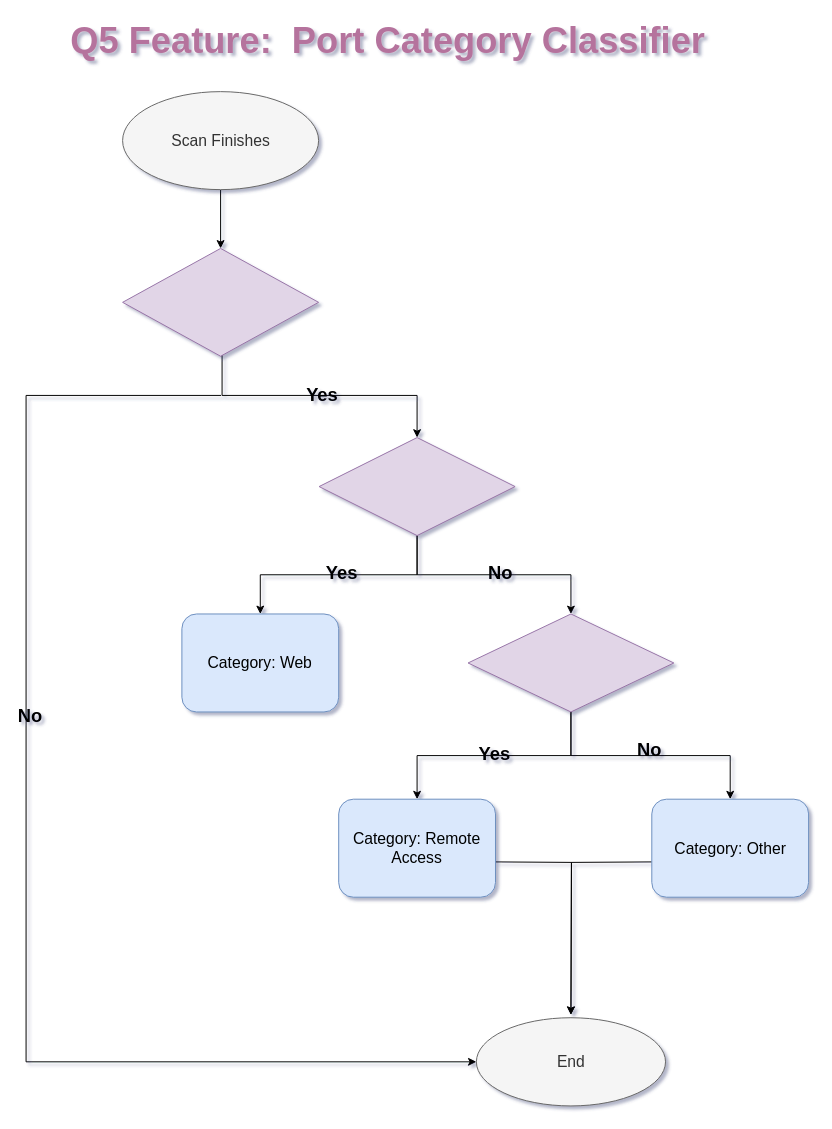
Image size: 832x1129. Some labels were removed from this diagram. The shapes that lost their labels are listed below. From the top down, each one's box as (x1, y1, x2, y2) in pixels, then its label:
(122, 247, 319, 356): Is port open?
(318, 437, 515, 536): Is port 80 or 443?
(467, 613, 674, 712): Is port 22 or 3389?
